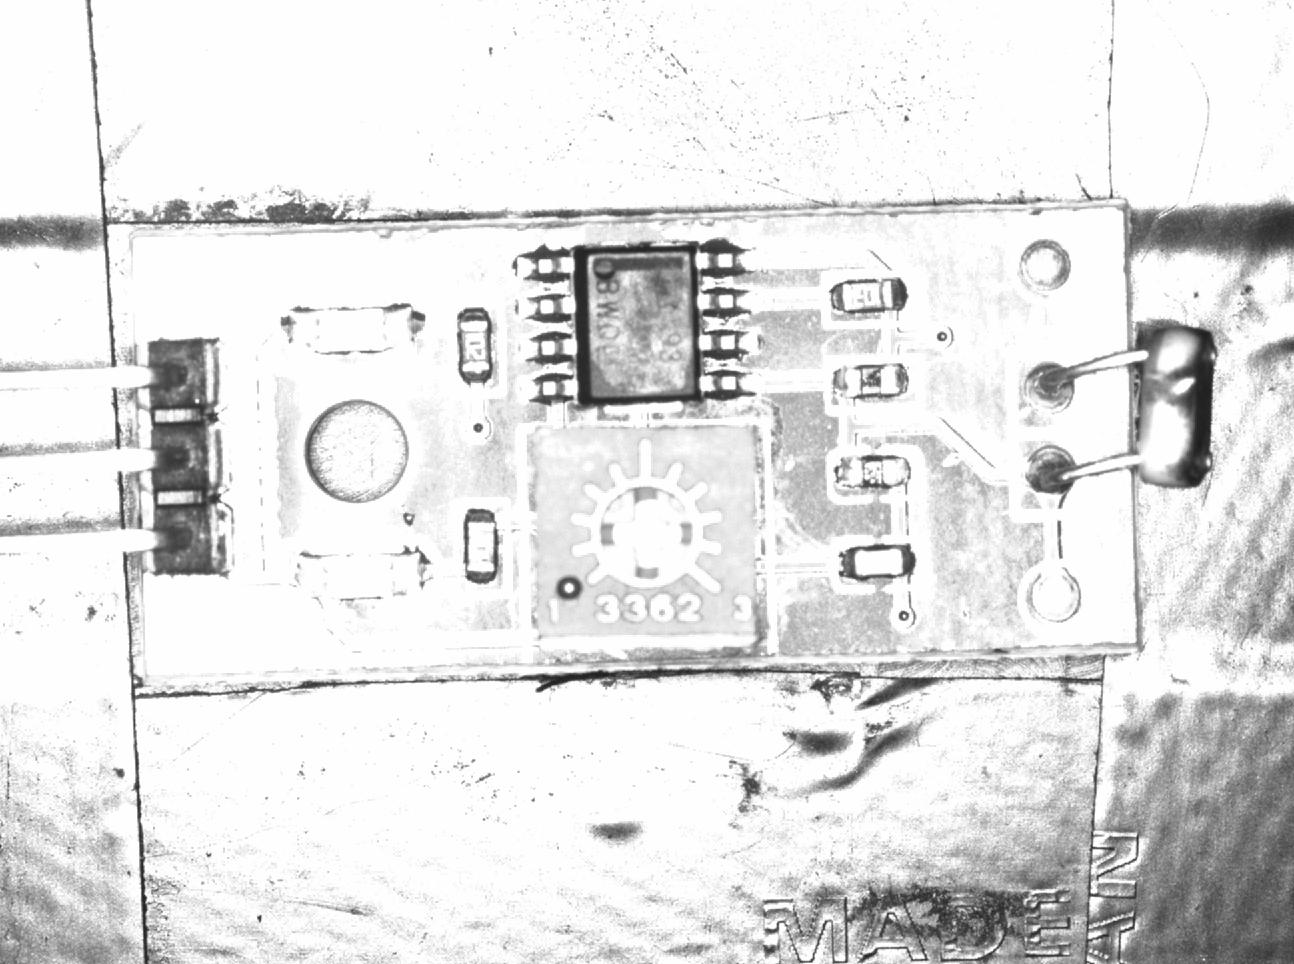miss: (823, 355, 921, 411), (828, 445, 918, 500)
ok: (454, 499, 509, 600), (449, 299, 501, 393), (833, 539, 921, 593), (821, 271, 913, 323)
